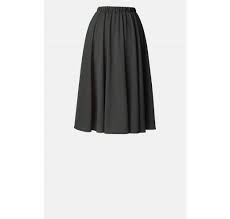S_skirt: (73, 5, 155, 136)
